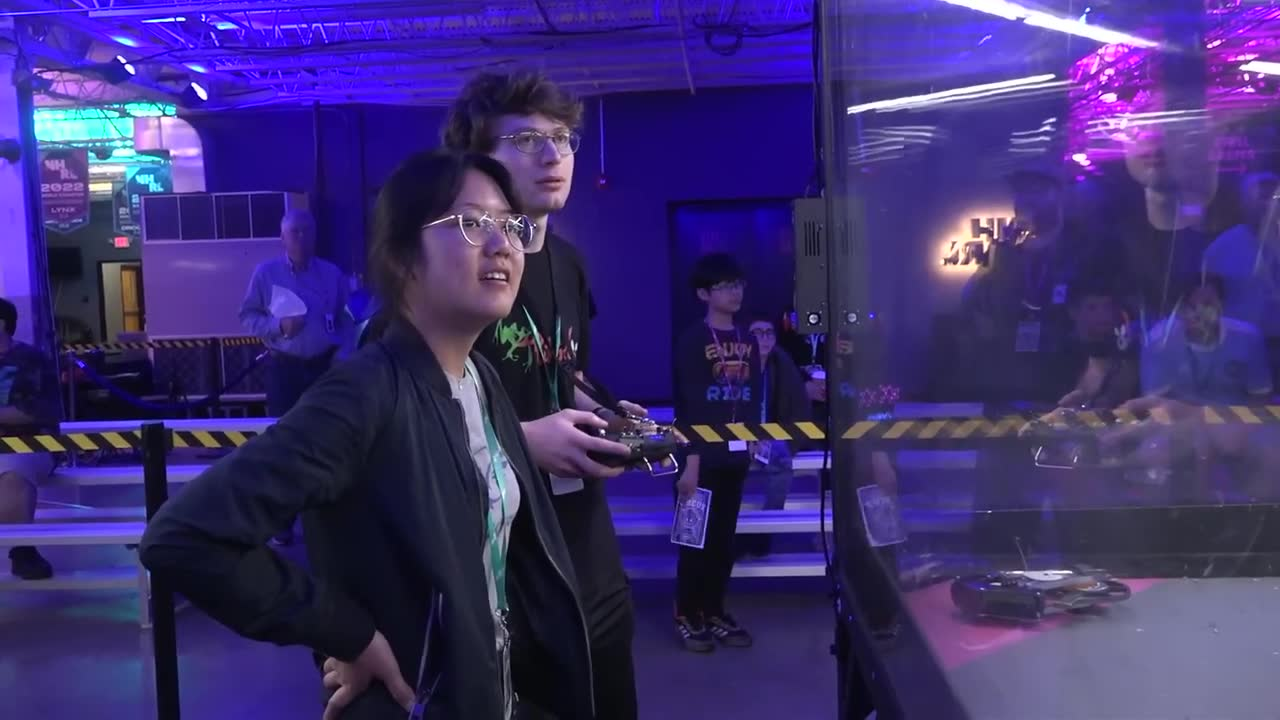combatbot: (953, 540, 1134, 627)
